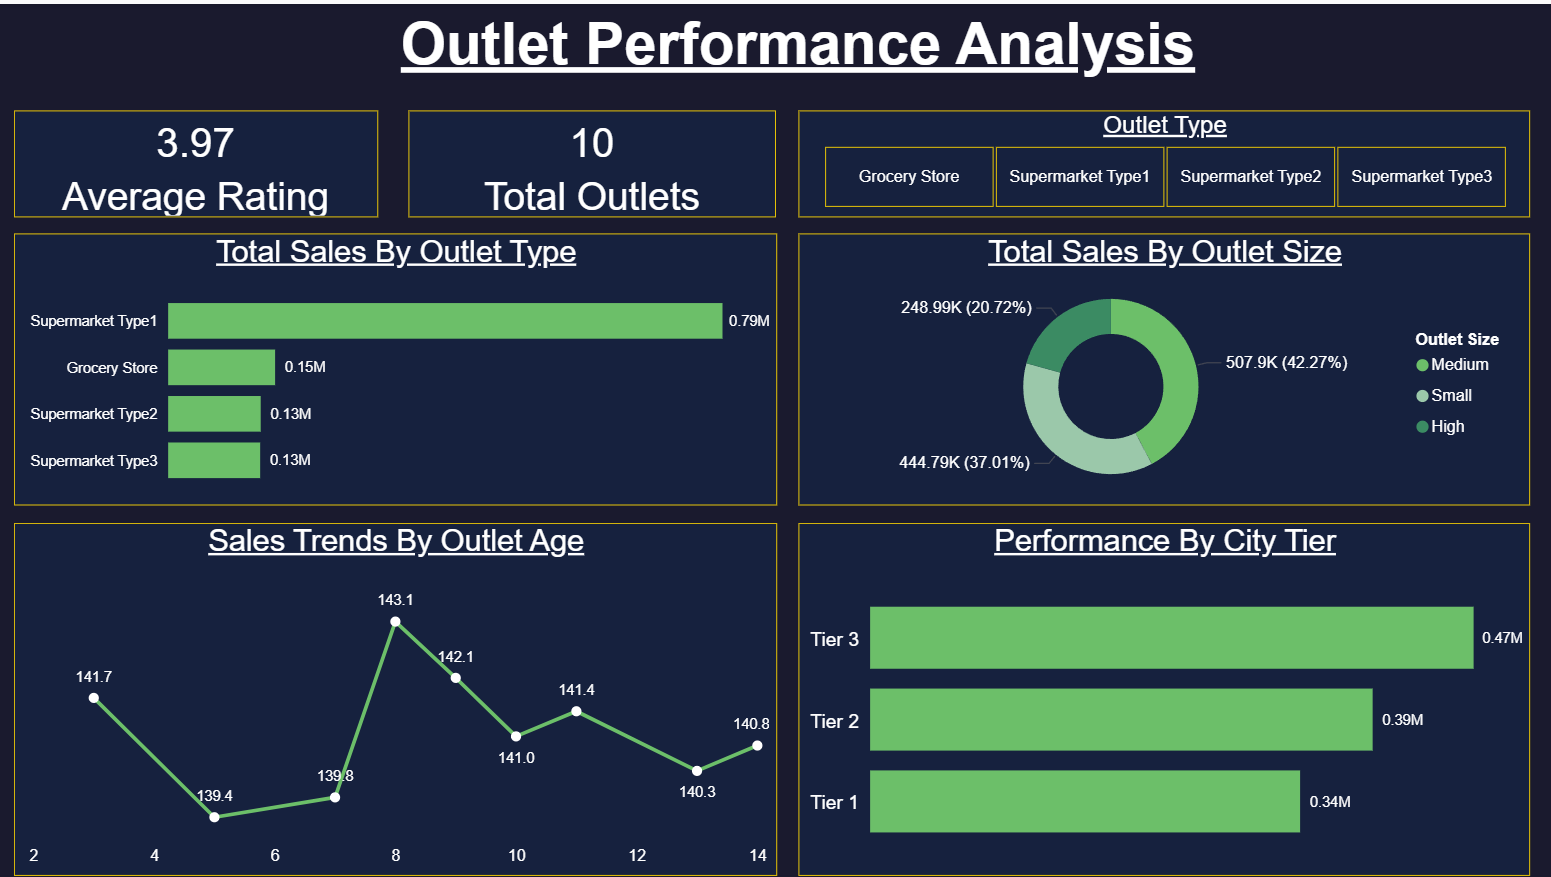

The dashboard page shown, as its layout file describes it:
{"tool":"powerbi","page":{"name":"Outlet Performance","canvas":[1280,720],"ordinal":2},"visuals":[{"type":"barChart","title":"Total Sales By Outlet Type","fields":{"Category":["Blinkit-Grocery-Data(Processed).outlet_type"],"Y":["Measures Table.Total Sales"]},"box":[12.1,189.3,628.4,224.1],"z":0},{"type":"donutChart","title":"Total Sales By Outlet Size","fields":{"Category":["Blinkit-Grocery-Data(Processed).outlet_size"],"Y":["Measures Table.Total Sales"]},"box":[658.7,189.3,602.7,224.1],"z":1000},{"type":"lineChart","title":"Sales Trends By Outlet Age","fields":{"Category":["Blinkit-Grocery-Data(Processed).outlet_age"],"Y":["Measures Table.Average Sales"]},"box":[12.1,427,628.4,290.7],"z":2000},{"type":"clusteredBarChart","title":"Performance By City Tier","fields":{"Category":["Blinkit-Grocery-Data(Processed).outlet_location_type"],"Y":["Measures Table.Total Sales"]},"box":[658.7,427,602.7,290.7],"z":3000},{"type":"card","fields":{"Values":["Measures Table.Average Rating"]},"box":[12.1,87.8,299.8,87.8],"z":4000},{"type":"card","fields":{"Values":["Measures Table.Total Outlets"]},"box":[337.7,87.8,302.8,87.8],"z":5000},{"type":"slicer","title":"Outlet Type","fields":{"Values":["Blinkit-Grocery-Data(Processed).outlet_type"]},"box":[658.7,87.8,602.7,87.8],"z":6000},{"type":"textbox","box":[284.7,0,748,83.3],"z":7000}]}

Visuals, with their boxes in screenshot pixels (x1, y1, x2, y2), scaled from the page's 1280x720 canvas onto the 1551x877 screenshot:
"Total Sales By Outlet Type" barChart: bbox=[15, 231, 776, 504]
"Total Sales By Outlet Size" donutChart: bbox=[798, 231, 1528, 504]
"Sales Trends By Outlet Age" lineChart: bbox=[15, 520, 776, 874]
"Performance By City Tier" clusteredBarChart: bbox=[798, 520, 1528, 874]
card - Measures Table.Average Rating: bbox=[15, 107, 378, 214]
card - Measures Table.Total Outlets: bbox=[409, 107, 776, 214]
"Outlet Type" slicer: bbox=[798, 107, 1528, 214]
textbox: bbox=[345, 0, 1251, 101]
